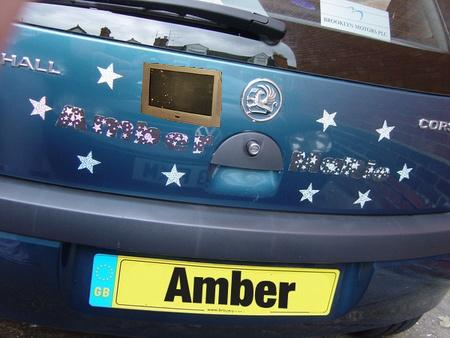tampered: (141, 63, 222, 127)
